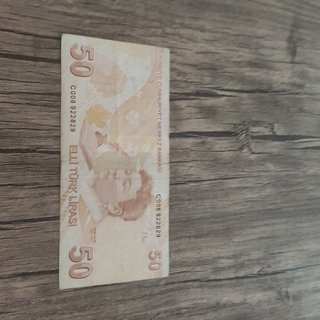50TLBack: (58, 32, 170, 289)
